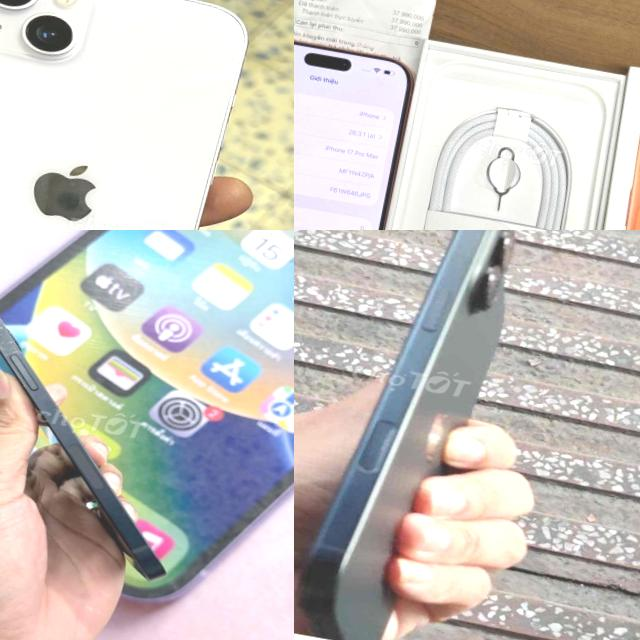gen_12_13: (0, 283, 211, 584)
gen_14: (0, 0, 265, 230)
gen_16: (294, 230, 547, 640)
gen_17: (294, 24, 423, 230)
